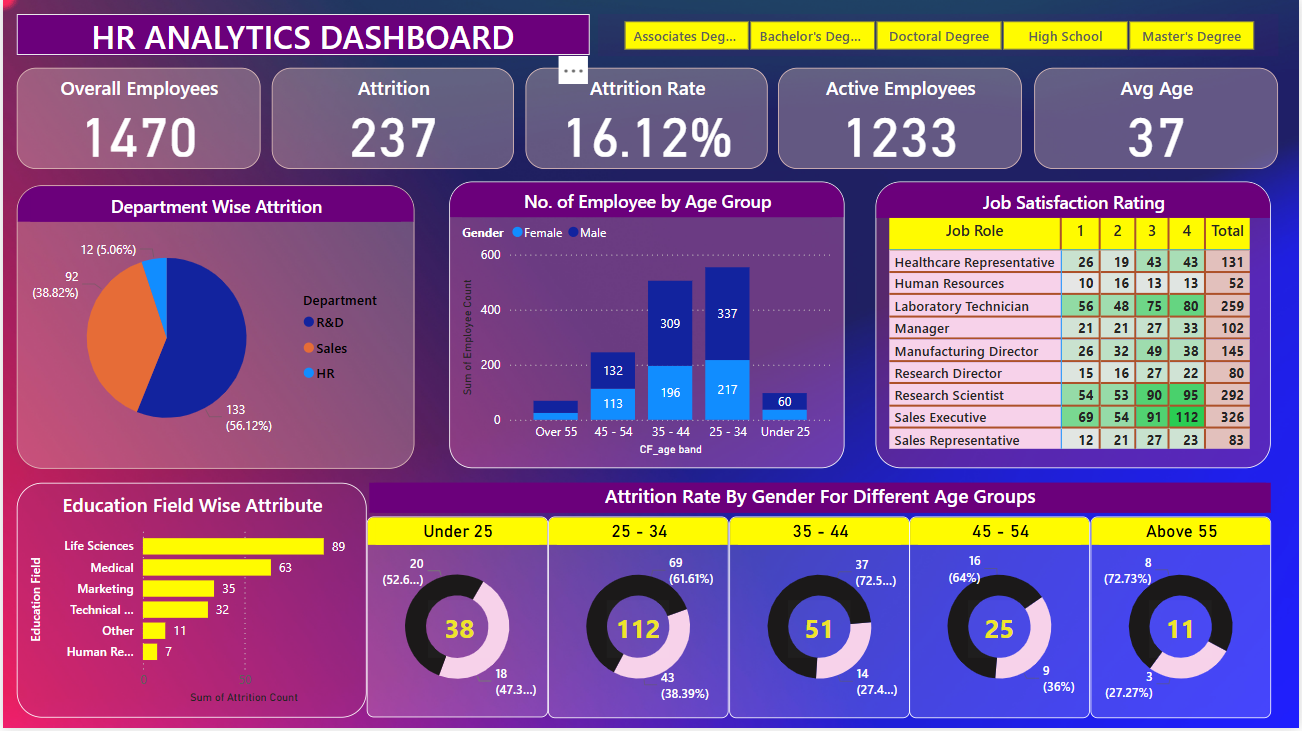

The page's visual inventory and layout, read from the dashboard file:
{"tool":"powerbi","page":{"name":"Page 1","canvas":[1280,720],"ordinal":0},"visuals":[{"type":"card","title":"Overall Employees","fields":{"Values":["Sum(Sheet1.Employee Count)"]},"box":[13.1,67.9,240.5,100],"z":0},{"type":"card","title":"Attrition","fields":{"Values":["Sum(Sheet1.Attrition Count)"]},"box":[265.5,67.9,239.3,100],"z":1000},{"type":"card","title":"Attrition Rate ","fields":{"Values":["Sheet1.Attrition Rate"]},"box":[515.5,67.9,239.3,100],"z":2000},{"type":"card","title":"Active Employees","fields":{"Values":["Sheet1.Active Employess"]},"box":[765.5,67.9,240.5,100],"z":3000},{"type":"card","title":"Avg Age","fields":{"Values":["Avg(Sheet1.Age)"]},"box":[1019,67.9,240.5,100],"z":4000},{"type":"pieChart","title":"Department Wise Attrition","fields":{"Category":["Sheet1.Department"],"Y":["Sum(Sheet1.Attrition Count)"]},"box":[13.1,183.3,392.9,279.8],"z":5000},{"type":"columnChart","title":"No. of Employee by Age Group","fields":{"Category":["Sheet1.CF_age band"],"Y":["Sum(Sheet1.Employee Count)"],"Series":["Sheet1.Gender"]},"box":[440.5,179.8,390.5,283.3],"z":6000},{"type":"pivotTable","title":"Job Satisfaction Rating","fields":{"Rows":["Sheet1.Job Role"],"Columns":["Sheet1.Job Satisfaction"],"Values":["Sum(Sheet1.Employee Count)"]},"box":[861.9,179.8,390.5,283.3],"z":7000},{"type":"barChart","title":"Education Field Wise Attribute","fields":{"Category":["Sheet1.Education Field"],"Y":["Sum(Sheet1.Attrition Count)"]},"box":[13.6,477.8,345.7,232.1],"z":8000},{"type":"donutChart","title":"Under 25","fields":{"Category":["Sheet1.Gender"],"Y":["Sum(Sheet1.Attrition Count)"],"Series":["Sheet1.CF_age band"]},"box":[359.3,511.1,179,198.8],"z":9000},{"type":"textbox","title":"Attrition Rate By Gender For Different Age Groups","box":[361.9,477.4,890.5,29.8],"z":10000},{"type":"donutChart","title":"25 - 34","fields":{"Category":["Sheet1.Gender"],"Y":["Sum(Sheet1.Attrition Count)"],"Series":["Sheet1.CF_age band"]},"box":[538.1,510.7,178.6,198.8],"z":11000},{"type":"donutChart","title":"35 - 44","fields":{"Category":["Sheet1.Gender"],"Y":["Sum(Sheet1.Attrition Count)"],"Series":["Sheet1.CF_age band"]},"box":[716.7,510.7,178.6,198.8],"z":12000},{"type":"donutChart","title":"45 - 54","fields":{"Category":["Sheet1.Gender"],"Y":["Sum(Sheet1.Attrition Count)"],"Series":["Sheet1.CF_age band"]},"box":[895.2,510.7,178.6,198.8],"z":13000},{"type":"donutChart","title":"Above 55","fields":{"Category":["Sheet1.Gender"],"Y":["Sum(Sheet1.Attrition Count)"],"Series":["Sheet1.CF_age band"]},"box":[1073.8,510.7,178.6,198.8],"z":14000},{"type":"card","fields":{"Values":["Sum(Sheet1.Attrition Count)"]},"box":[420.2,594,61.9,57.1],"z":15000},{"type":"card","fields":{"Values":["Sum(Sheet1.Attrition Count)"]},"box":[775,594,61.9,57.1],"z":16000},{"type":"card","fields":{"Values":["Sum(Sheet1.Attrition Count)"]},"box":[596.4,594,61.9,57.1],"z":17000},{"type":"card","fields":{"Values":["Sum(Sheet1.Attrition Count)"]},"box":[953.6,594,61.9,57.1],"z":18000},{"type":"card","fields":{"Values":["Sum(Sheet1.Attrition Count)"]},"box":[1132.1,594,61.9,57.1],"z":19000},{"type":"textbox","title":"HR ANALYTICS DASHBOARD","box":[13.6,14.8,565.4,40.7],"z":20000},{"type":"slicer","fields":{"Values":["Sheet1.Education"]},"box":[587.7,14.8,671.6,42],"z":21000}]}

Visuals, with their boxes in screenshot pixels (x1, y1, x2, y2), scaled from the page's 1280x720 canvas onto the 1302x731 screenshot:
"Overall Employees" card: {"x1": 13, "y1": 69, "x2": 258, "y2": 170}
"Attrition" card: {"x1": 270, "y1": 69, "x2": 513, "y2": 170}
"Attrition Rate " card: {"x1": 524, "y1": 69, "x2": 768, "y2": 170}
"Active Employees" card: {"x1": 779, "y1": 69, "x2": 1023, "y2": 170}
"Avg Age" card: {"x1": 1037, "y1": 69, "x2": 1281, "y2": 170}
"Department Wise Attrition" pieChart: {"x1": 13, "y1": 186, "x2": 413, "y2": 470}
"No. of Employee by Age Group" columnChart: {"x1": 448, "y1": 183, "x2": 845, "y2": 470}
"Job Satisfaction Rating" pivotTable: {"x1": 877, "y1": 183, "x2": 1274, "y2": 470}
"Education Field Wise Attribute" barChart: {"x1": 14, "y1": 485, "x2": 365, "y2": 721}
"Under 25" donutChart: {"x1": 365, "y1": 519, "x2": 548, "y2": 721}
"Attrition Rate By Gender For Different Age Groups" textbox: {"x1": 368, "y1": 485, "x2": 1274, "y2": 515}
"25 - 34" donutChart: {"x1": 547, "y1": 519, "x2": 729, "y2": 720}
"35 - 44" donutChart: {"x1": 729, "y1": 519, "x2": 911, "y2": 720}
"45 - 54" donutChart: {"x1": 911, "y1": 519, "x2": 1092, "y2": 720}
"Above 55" donutChart: {"x1": 1092, "y1": 519, "x2": 1274, "y2": 720}
card - Sum(Sheet1.Attrition Count): {"x1": 427, "y1": 603, "x2": 490, "y2": 661}
card - Sum(Sheet1.Attrition Count): {"x1": 788, "y1": 603, "x2": 851, "y2": 661}
card - Sum(Sheet1.Attrition Count): {"x1": 607, "y1": 603, "x2": 670, "y2": 661}
card - Sum(Sheet1.Attrition Count): {"x1": 970, "y1": 603, "x2": 1033, "y2": 661}
card - Sum(Sheet1.Attrition Count): {"x1": 1152, "y1": 603, "x2": 1215, "y2": 661}
"HR ANALYTICS DASHBOARD" textbox: {"x1": 14, "y1": 15, "x2": 589, "y2": 56}
slicer - Sheet1.Education: {"x1": 598, "y1": 15, "x2": 1281, "y2": 58}
